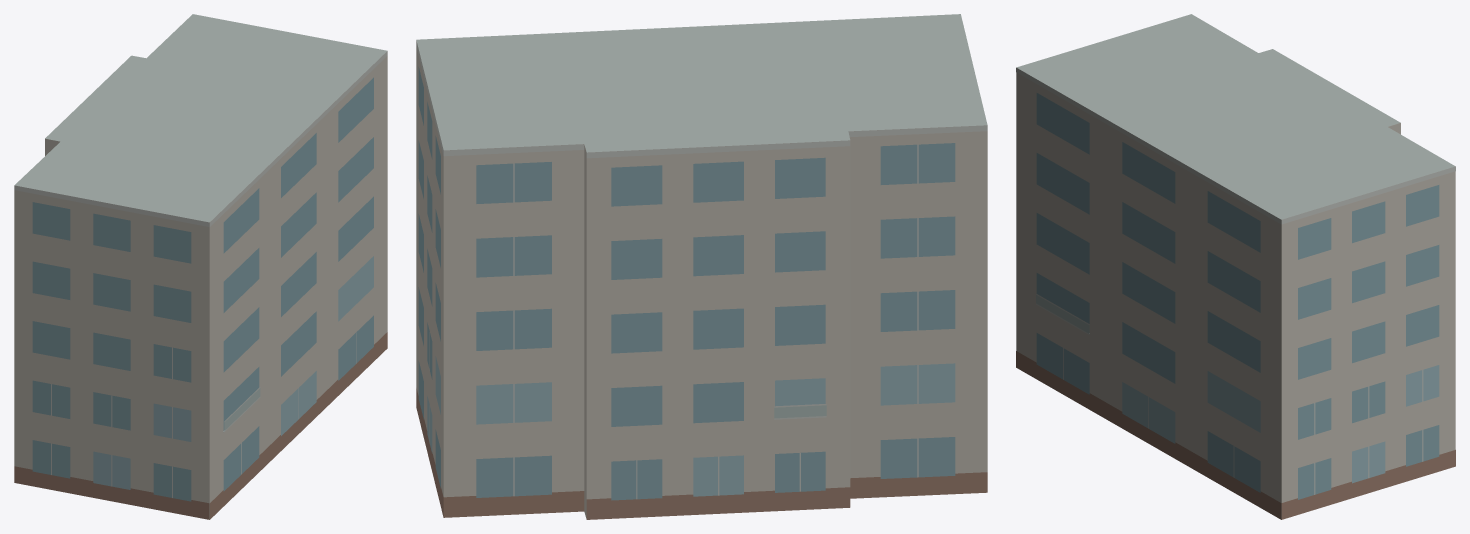
Rendered from survey-upis-32756817.glb.
3 renders of one model, left to right at view 1: azimuth 30°, elevation 25°; view 2: azimuth 150°, elevation 25°; view 3: azimuth 270°, elevation 25°, orthographic. The views are drawn at different scales.
Visible parts, largest first — view 1: survey-upis-32756817.tmp; view 2: survey-upis-32756817.tmp; view 3: survey-upis-32756817.tmp.
Part boxes in pixels (x1,y1,x2,y2): survey-upis-32756817.tmp: (14,14,387,519); survey-upis-32756817.tmp: (416,14,987,519); survey-upis-32756817.tmp: (1016,14,1455,519).
Size of the model in its own units: 22.44 by 15.25 by 20.25.
